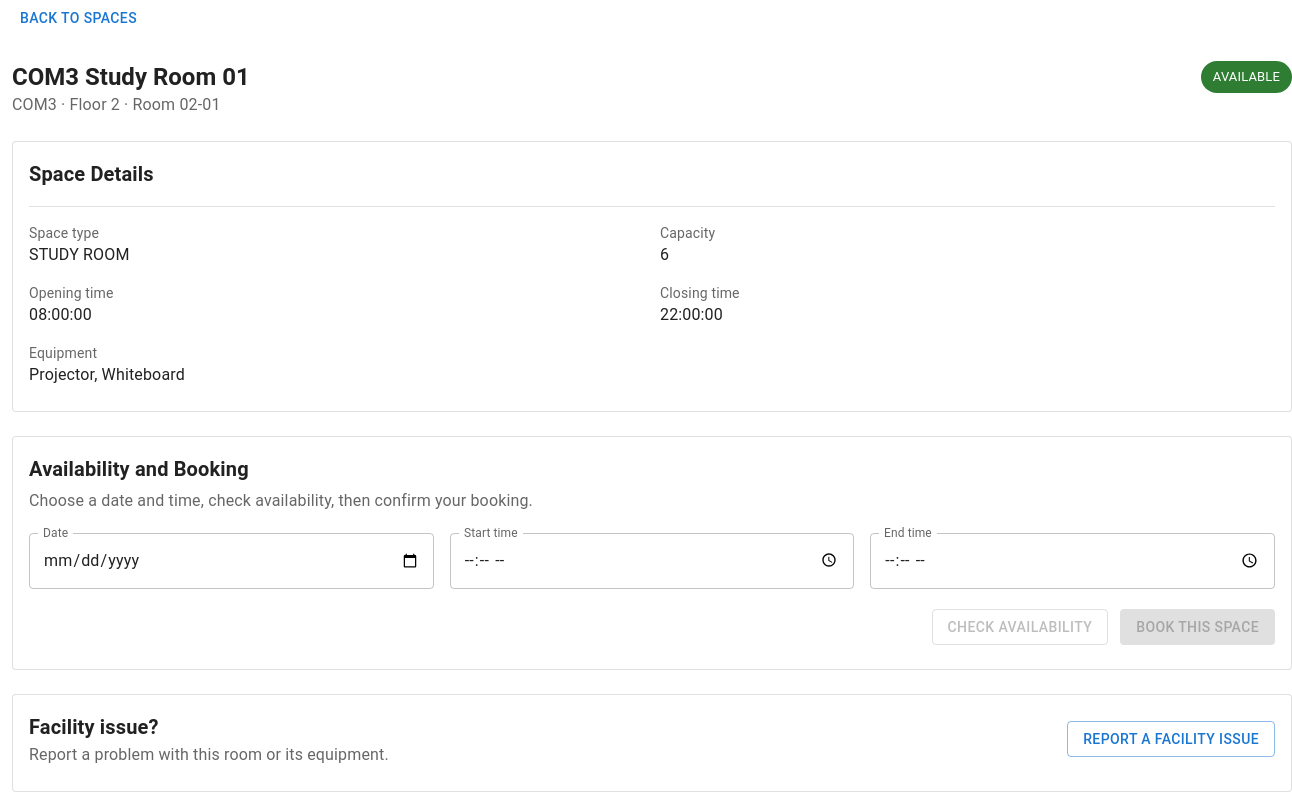
Test: SpaceDetailsPage availability and booking › shows an available result and sends seconds without a timezone suffix
The image size is (1292, 800).
Expected: the heading "COM3 Study Room 01" is shown, [12,60,250,92]
Type "2026-08-13" into the date field labelled "Date" at (231, 561), box [29,533,434,589]
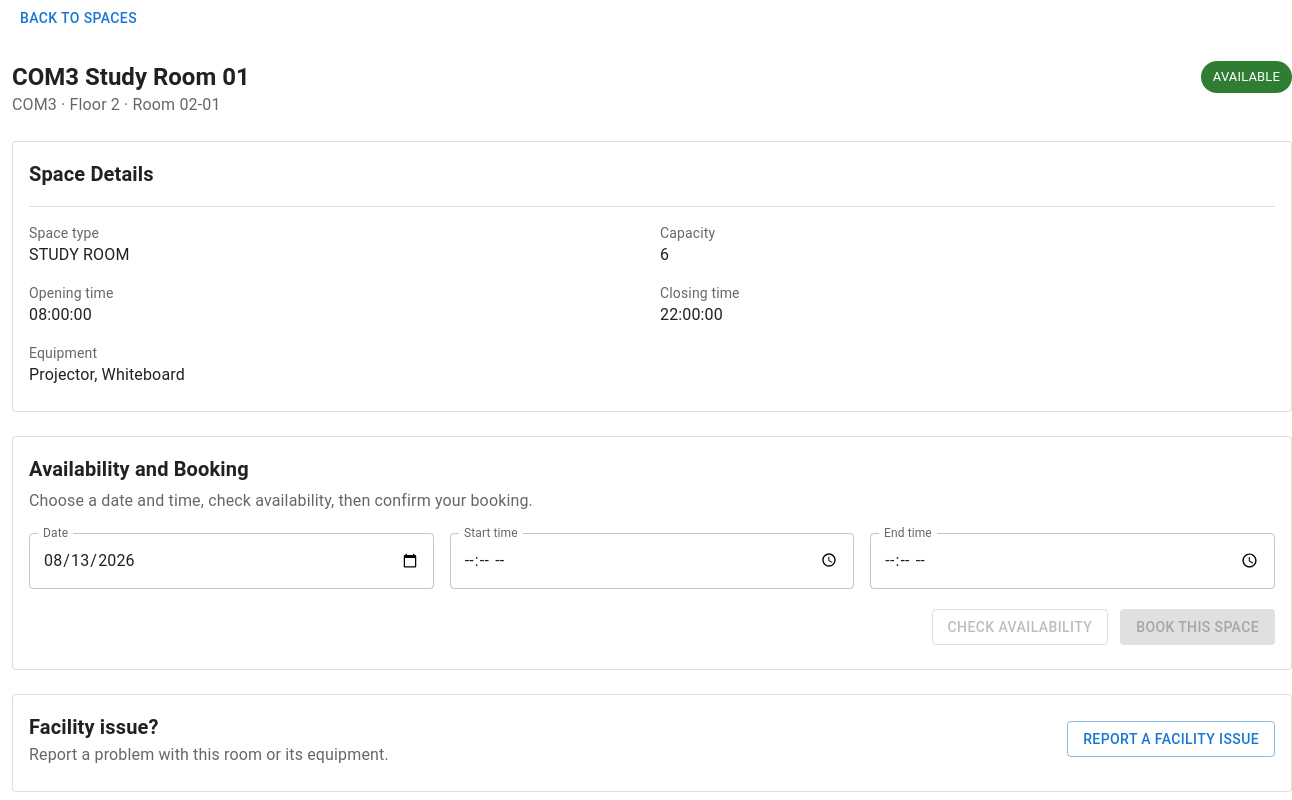
Type "14:00" into the time field labelled "Start time" at (652, 561), box [450,533,854,589]
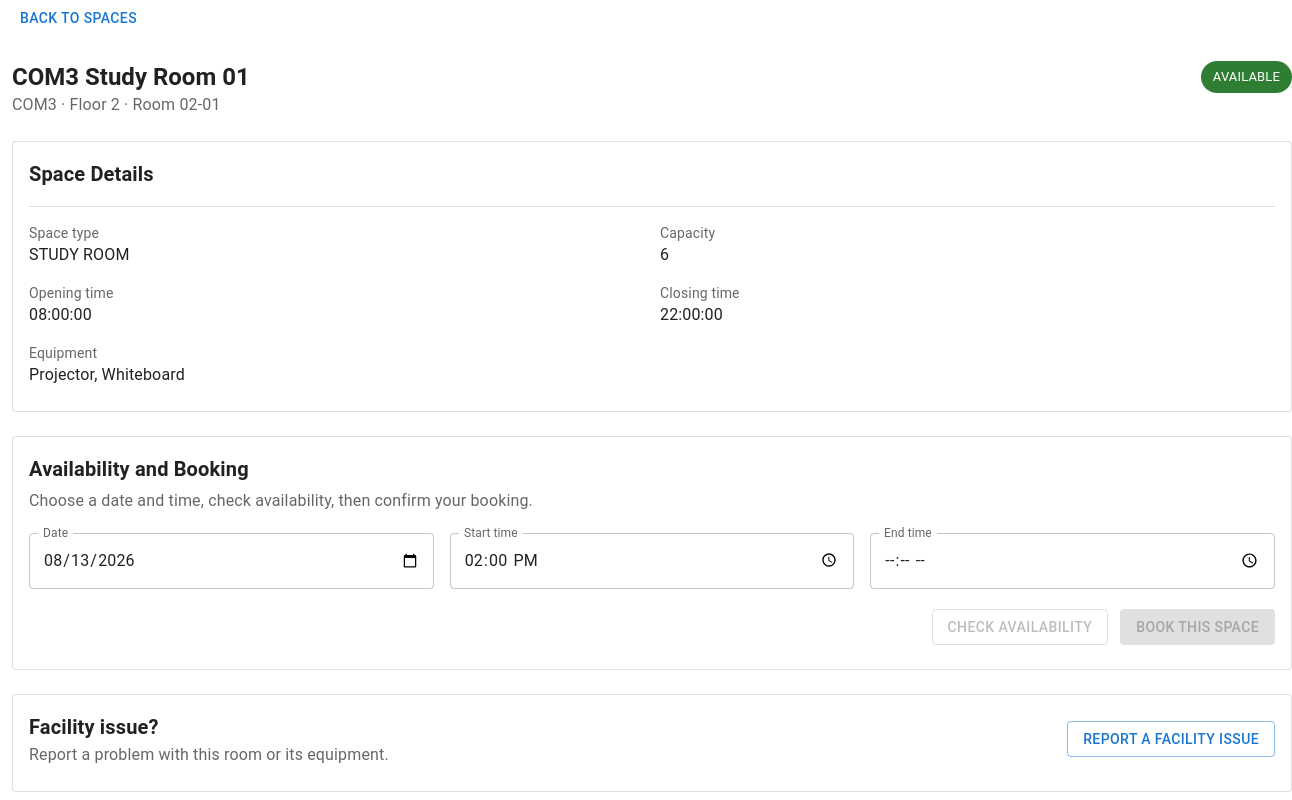
Type "16:00" into the time field labelled "End time" at (1073, 561), box [870,533,1275,589]
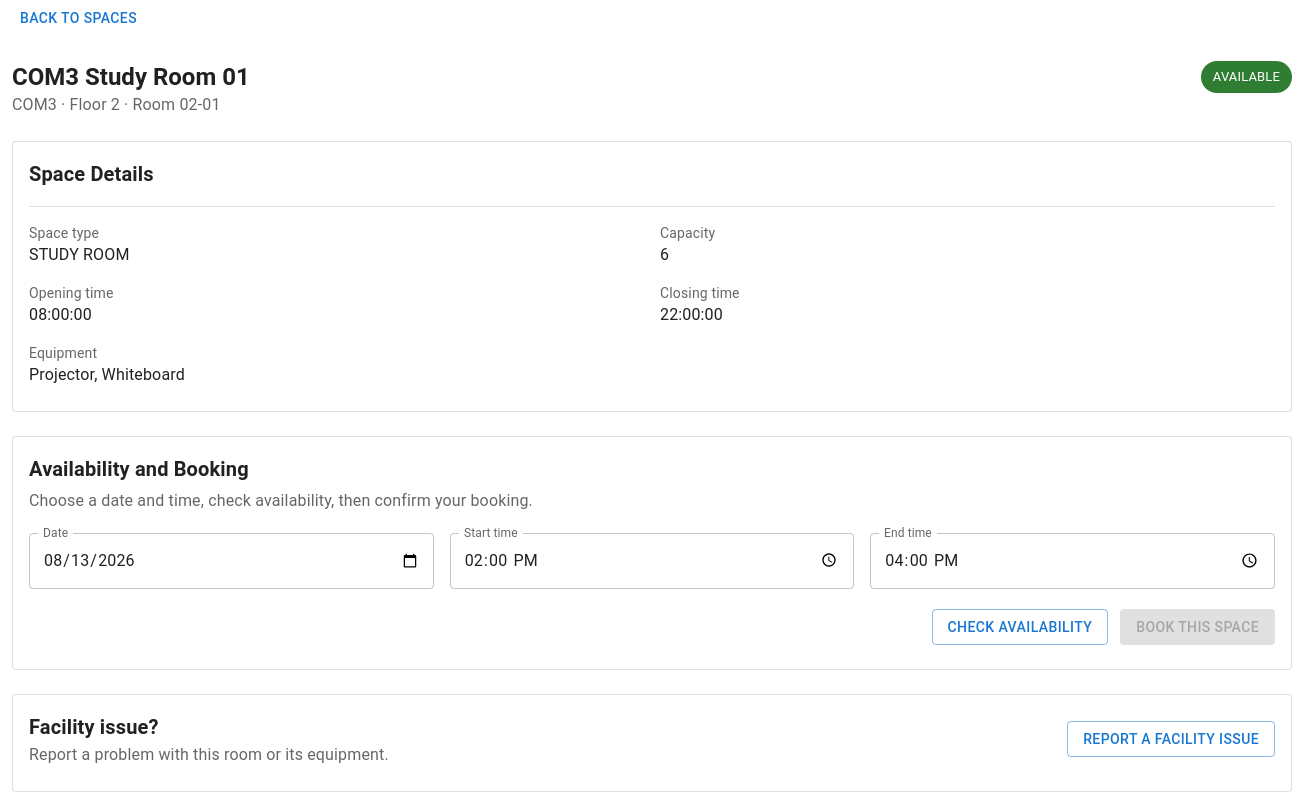
Click the button "Check Availability" at (1020, 627), box [932,609,1108,645]
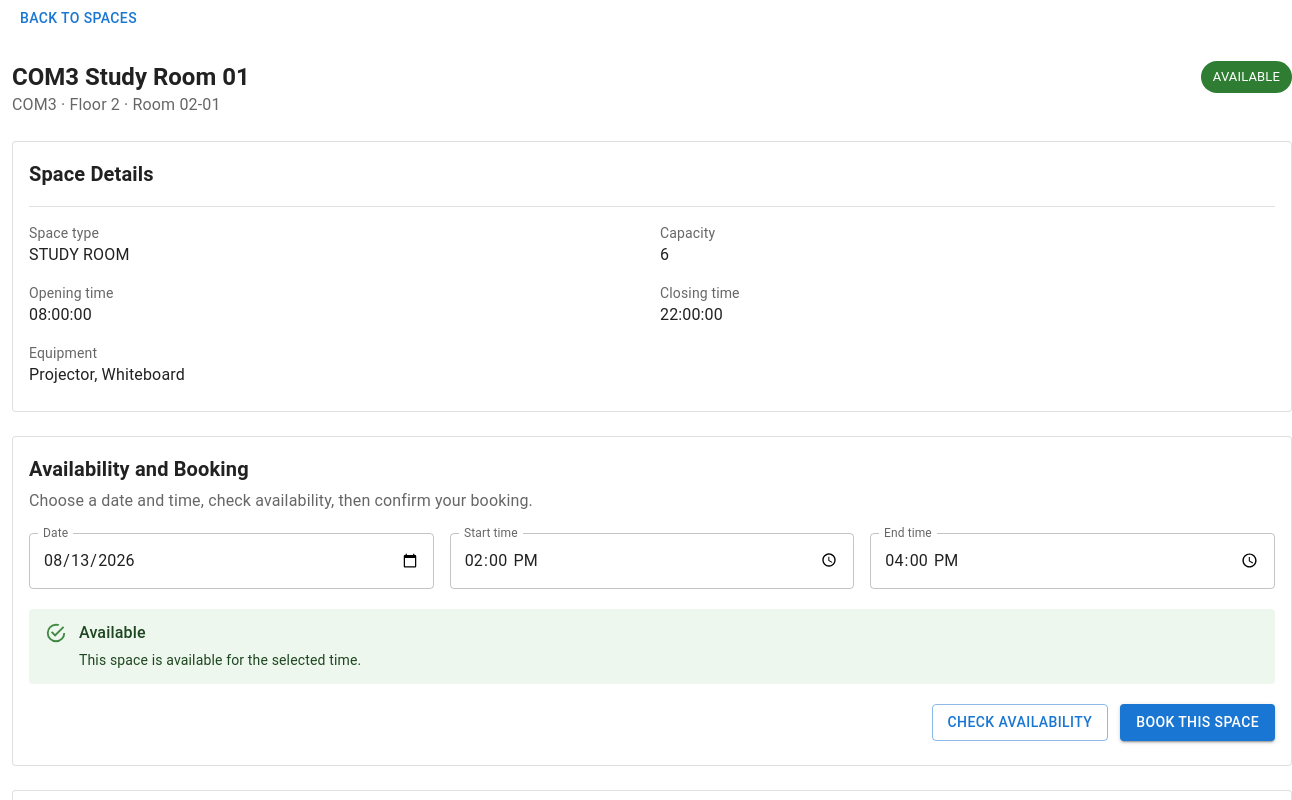
Expected: the text "This space is available for the selected time." is shown, [79,652,361,668]
Expected: the text "Available" is shown, [79,623,146,642]
Expected: the button "Book this space" is enabled, [1120,704,1275,741]
